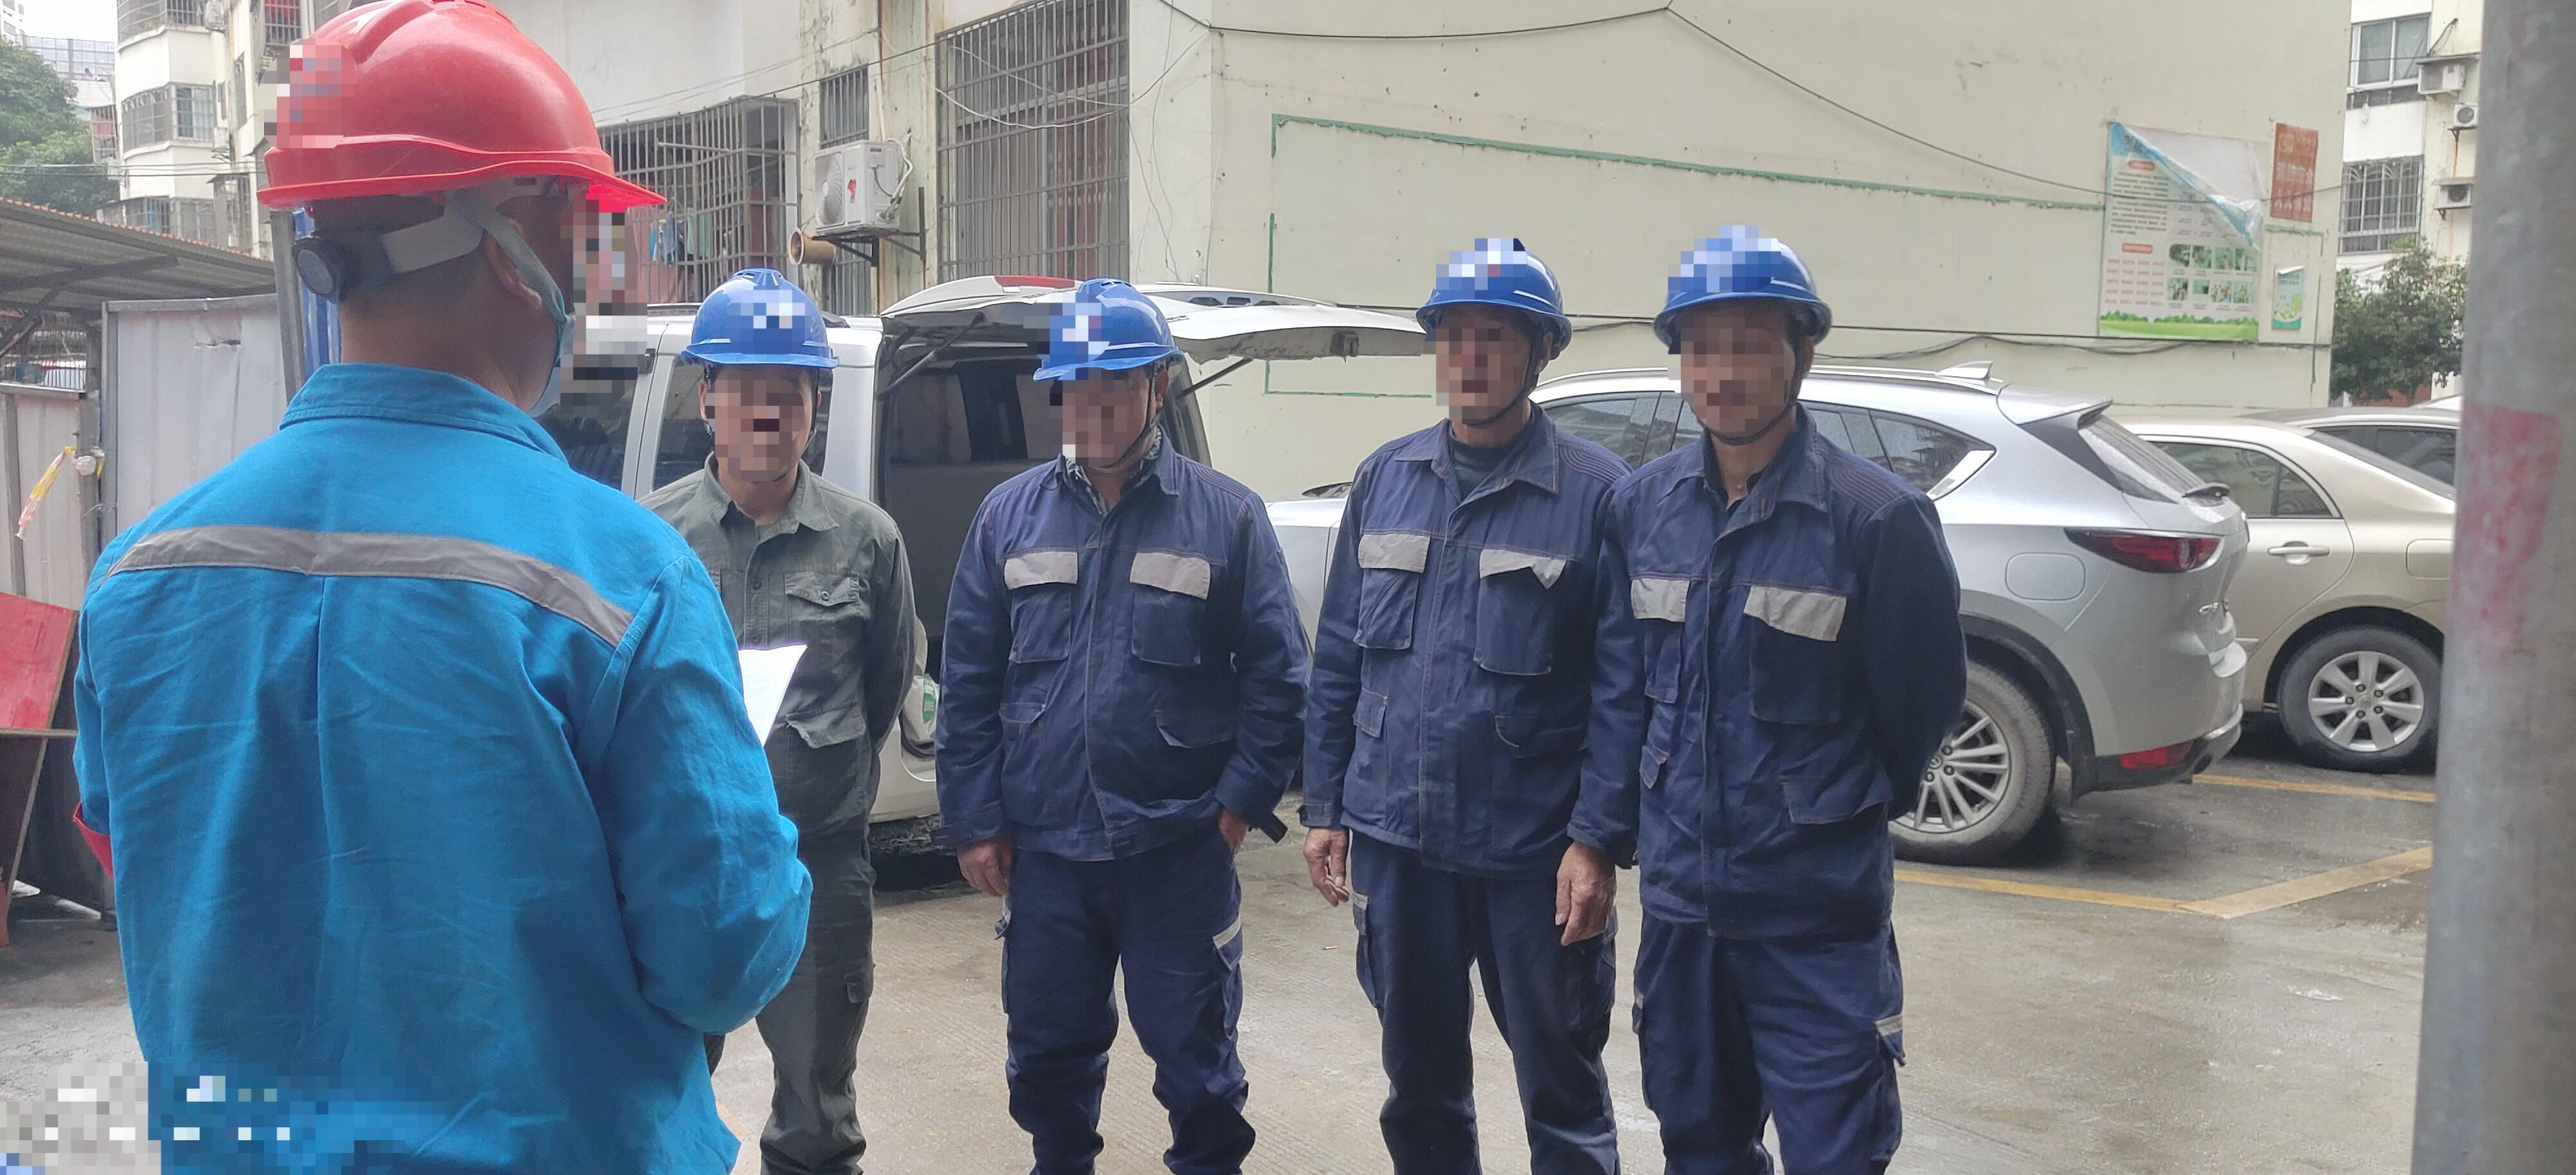halt: (248, 7, 669, 416), (1651, 222, 1837, 449), (677, 268, 846, 513), (1416, 233, 1574, 442), (1033, 281, 1189, 465)
inear: (1503, 325, 1562, 409), (1127, 358, 1175, 445)
outear: (470, 194, 593, 417)
